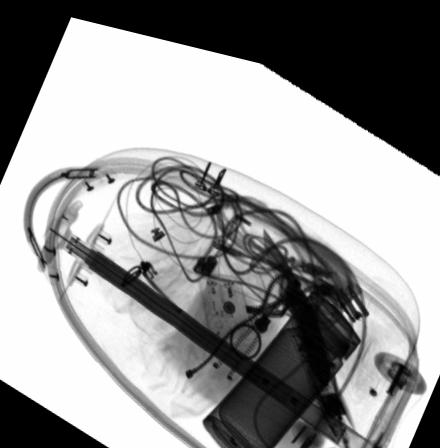Knife: (262, 214, 331, 368)
